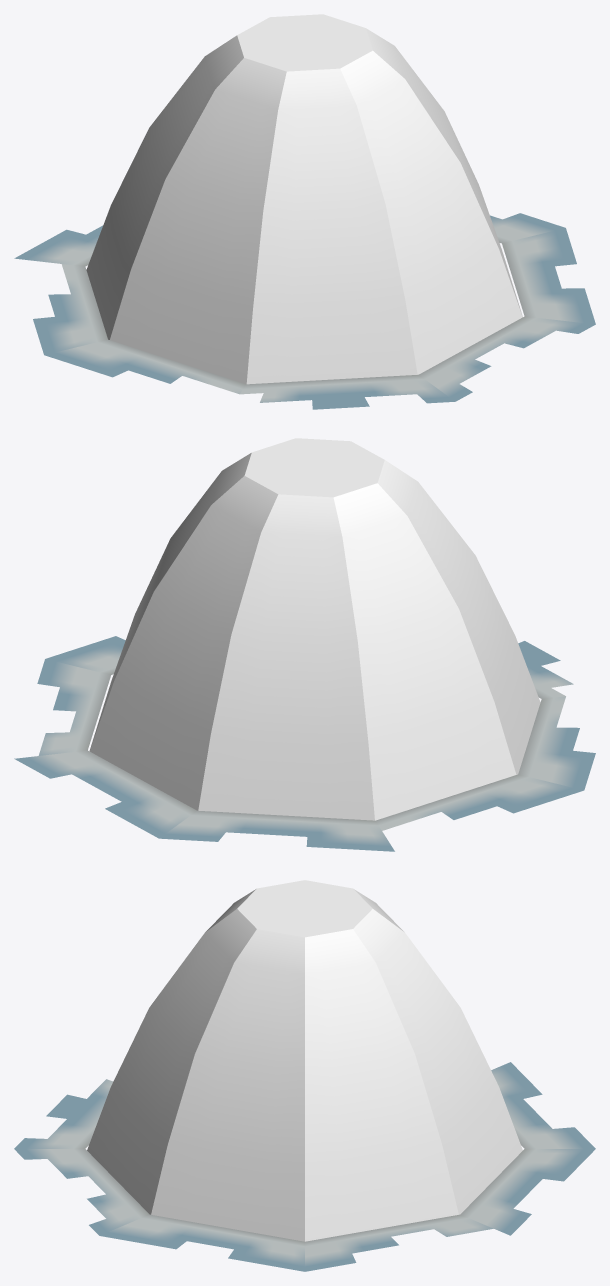
The model's file is caillou.fbx.
The picture shows the model from 3 angles, top to bottom: view 1: azimuth 30°, elevation 25°; view 2: azimuth 150°, elevation 25°; view 3: azimuth 270°, elevation 25°; orthographic projection. The views are drawn at different scales.
Visible parts, largest first — view 1: caillou; view 2: caillou; view 3: caillou.
Boxes of the visible parts, x1,y1,x2,y2 form: caillou: (14, 14, 595, 409); caillou: (14, 438, 595, 851); caillou: (14, 880, 595, 1271).
Size of the model in its own units: 23.15 by 10.8 by 23.15.
Materials: 1 (1 with a texture image).
